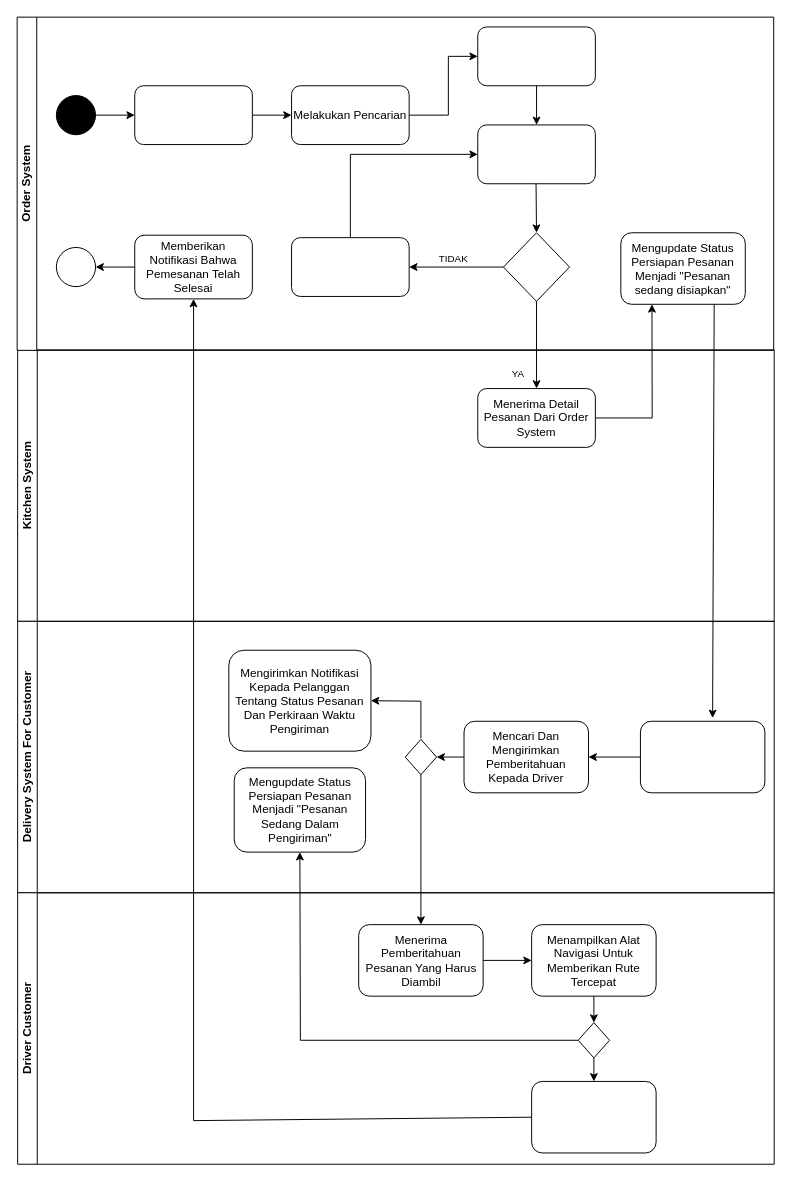
Image size: 792x1182. Some labels were removed from this diagram. Here are the shapes that lost their labels. From the top down, the centre of each, then its label:
At (x=536, y=56): "Menerima Pesanan Customer di dalam Keranjang".
At (x=193, y=115): "Menampilkan Menu".
At (x=536, y=154): "Menampilkan Harga Total".
At (x=350, y=266): "Menampilkan Form Edit Pesan".
At (x=536, y=266): "Submit?".
At (x=702, y=756): "Menerima Status Pemesanan Telah Selesai Dari Dapur".
At (x=593, y=1116): "Menyelesaikan Pengiriman Untuk Merubah Status Pesanan Pada Order System".
